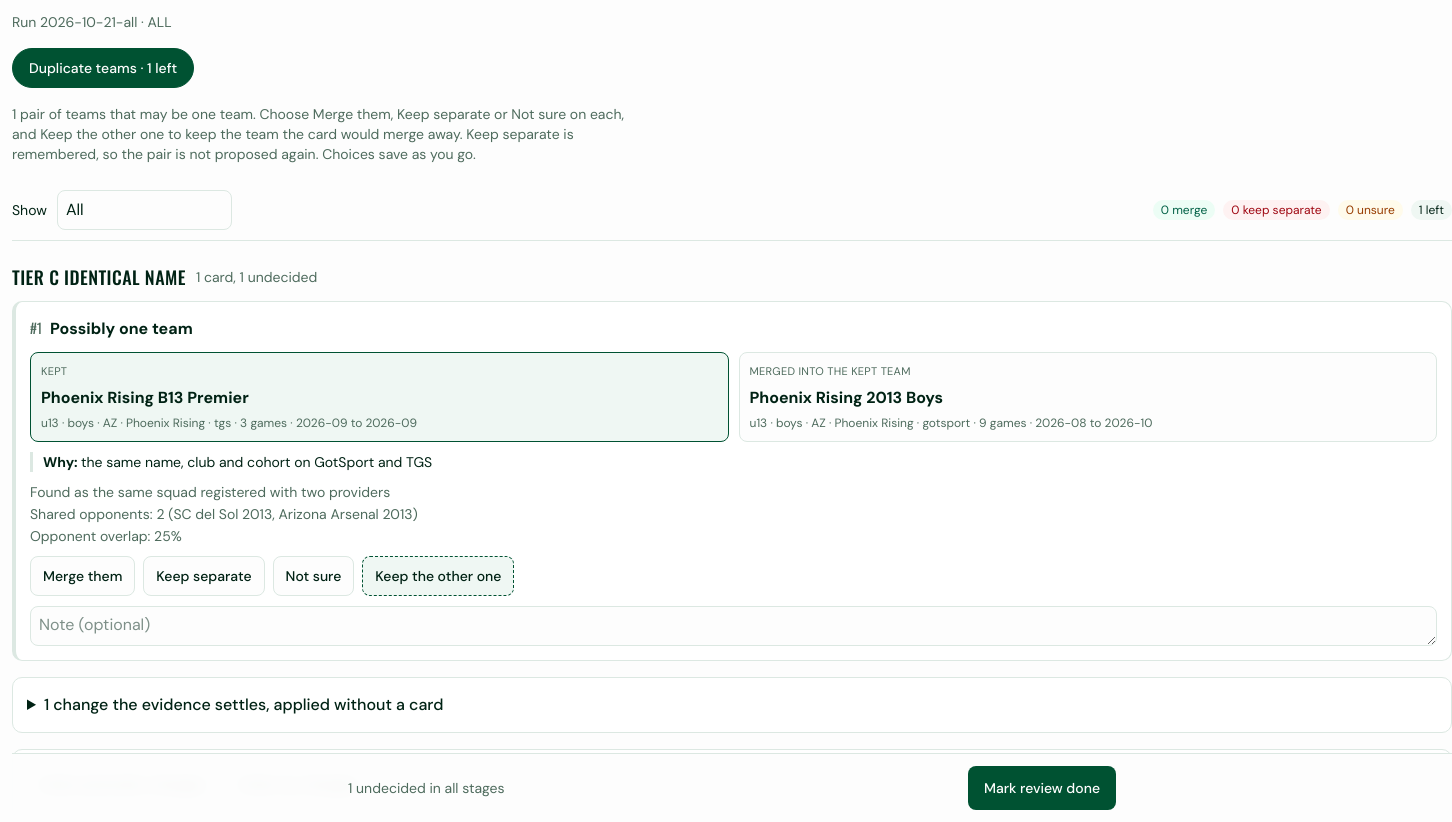
Test: the team cleanup review page › shows a pair saved as swapped with the other team kept, and swaps it back
Click the button "Keep the other one" at (438, 576), box [362,556,514,596]
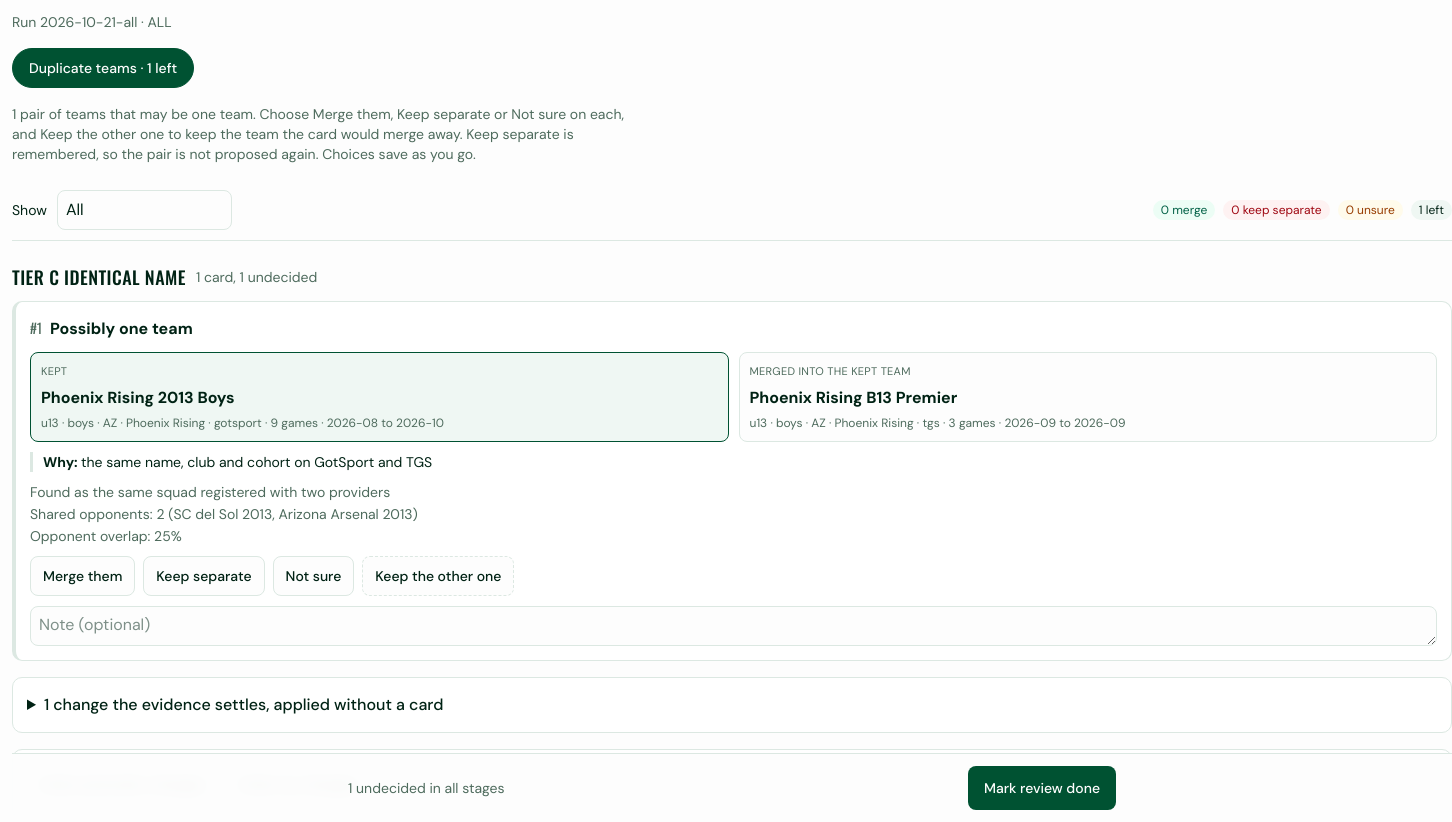
Expected: the text "Phoenix Rising 2013 Boys" is shown, [41,387,234,408]
